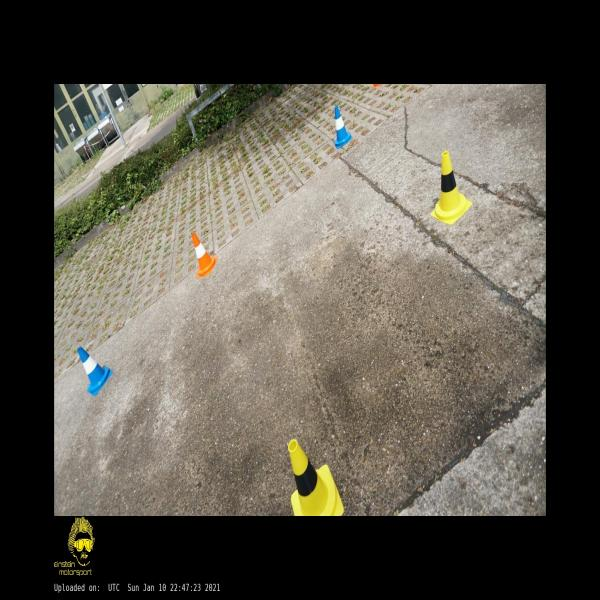blue_cone: (77, 346, 113, 396), (334, 106, 353, 149)
orange_cone: (191, 232, 218, 278)
yellow_cone: (288, 439, 344, 516), (430, 150, 472, 224)
